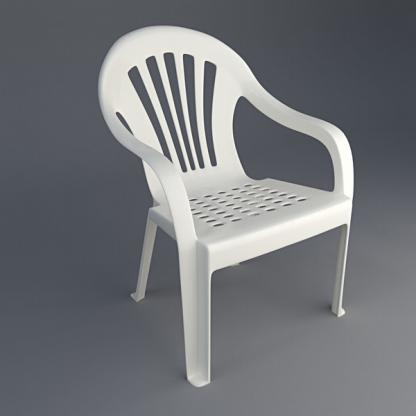chair: (91, 24, 358, 396)
